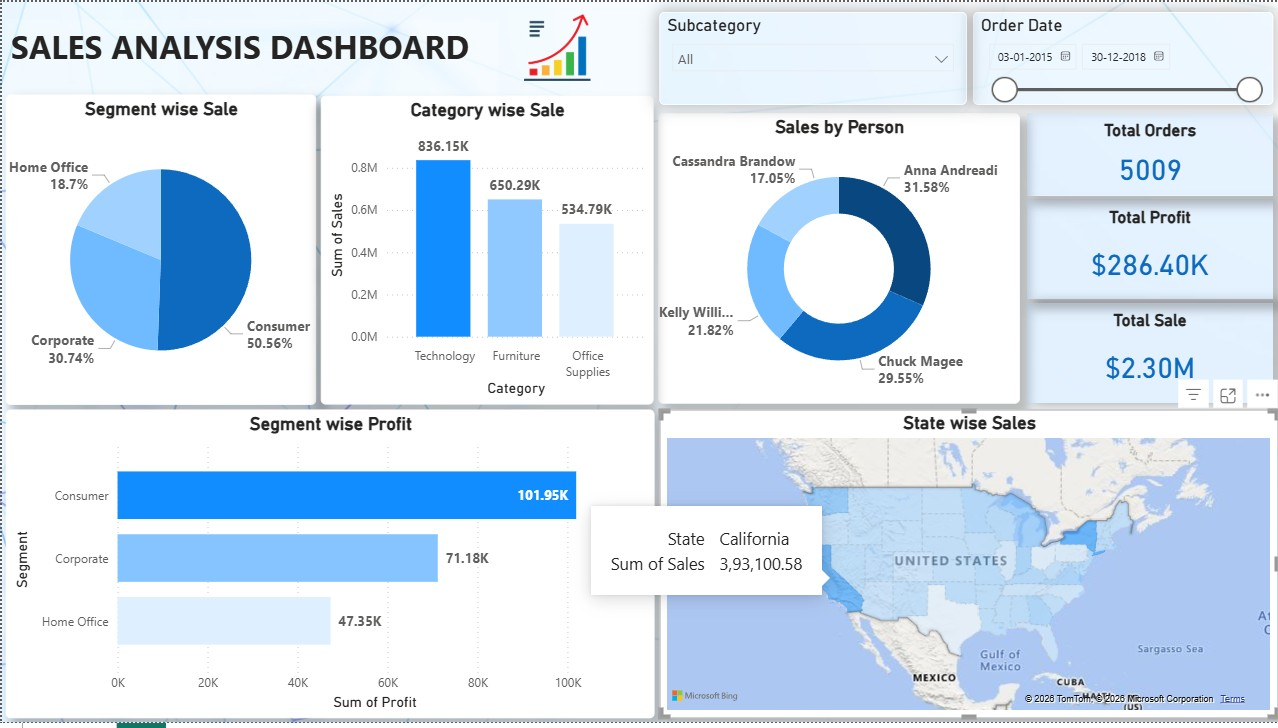

Layout of this report page (visuals, bound fields, positions):
{"tool":"powerbi","page":{"name":"Page 1","canvas":[1280,720],"ordinal":0},"visuals":[{"type":"pieChart","title":"Segment wise Sale","fields":{"Y":["Sum(Orders.Sales)"],"Category":["Orders.Segment"]},"box":[3.8,92.5,310,310],"z":0},{"type":"donutChart","title":"Sales by Person","fields":{"Y":["Sum(Orders.Sales)"],"Category":["People.Person"]},"box":[656.2,111.2,361.2,290],"z":1000},{"type":"columnChart","title":"Category wise Sale","fields":{"Y":["Sum(Orders.Sales)"],"Category":["Orders.Category"]},"box":[318.8,93.8,332.5,308.8],"z":2000},{"type":"clusteredBarChart","title":"Segment wise Profit","fields":{"Category":["Orders.Segment"],"Y":["Sum(Orders.Profit)"]},"box":[3.8,407.5,648.8,308.8],"z":3000},{"type":"filledMap","title":"State wise Sales","fields":{"Category":["Orders.State"]},"box":[657.5,407.5,618.8,308.8],"z":4000},{"type":"card","title":"Total Sale","fields":{"Values":["Sum(Orders.Sales)"]},"box":[1025,301.2,246.2,100],"z":5000},{"type":"card","title":"Total Profit","fields":{"Values":["Sum(Orders.Profit)"]},"box":[1025,197.5,246.2,100],"z":6000},{"type":"card","title":"Total Orders","fields":{"Values":["Orders.total orders"]},"box":[1025,111.2,246.2,82.5],"z":7000},{"type":"textbox","box":[3.8,17.5,492.5,75],"z":8000},{"type":"slicer","title":"Order Date","fields":{"Values":["Orders.Order Date"]},"box":[971.2,10,300,92.5],"z":9000},{"type":"slicer","title":"Subcategory","fields":{"Values":["Orders.Sub-Category"]},"box":[657.5,10,307.5,92.5],"z":10000},{"type":"image","box":[512.5,12,85,66.2],"z":11000}]}

Visuals, with their boxes in screenshot pixels (x1, y1, x2, y2), scaled from the page's 1280x720 canvas onto the 1278x728 screenshot:
"Segment wise Sale" pieChart: l=4, t=94, r=313, b=407
"Sales by Person" donutChart: l=655, t=112, r=1016, b=406
"Category wise Sale" columnChart: l=318, t=95, r=650, b=407
"Segment wise Profit" clusteredBarChart: l=4, t=412, r=652, b=724
"State wise Sales" filledMap: l=656, t=412, r=1274, b=724
"Total Sale" card: l=1023, t=305, r=1269, b=406
"Total Profit" card: l=1023, t=200, r=1269, b=301
"Total Orders" card: l=1023, t=112, r=1269, b=196
textbox: l=4, t=18, r=496, b=94
"Order Date" slicer: l=970, t=10, r=1269, b=104
"Subcategory" slicer: l=656, t=10, r=963, b=104
image: l=512, t=12, r=597, b=79
